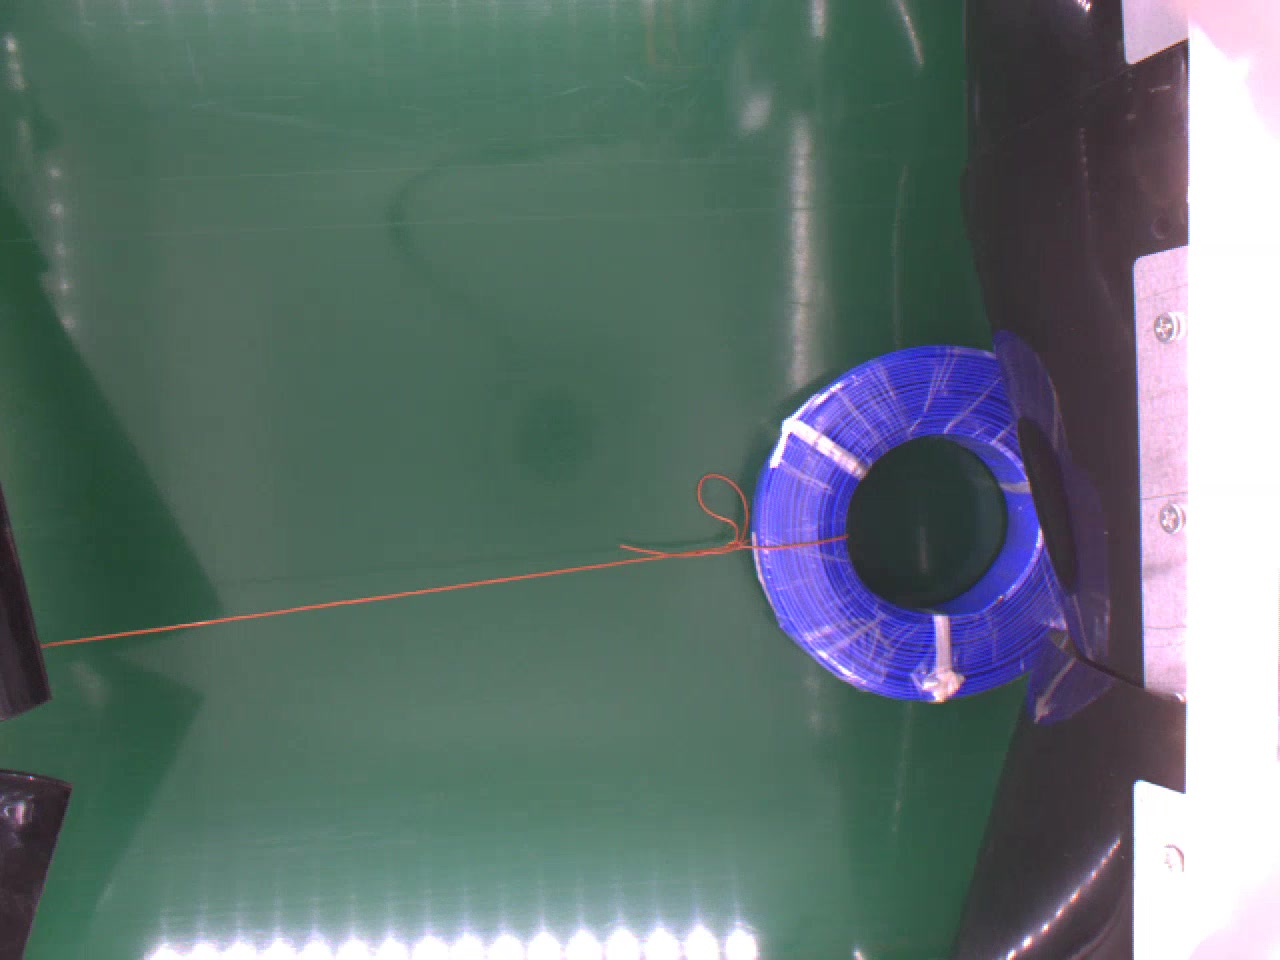blue: (754, 343, 1070, 696)
